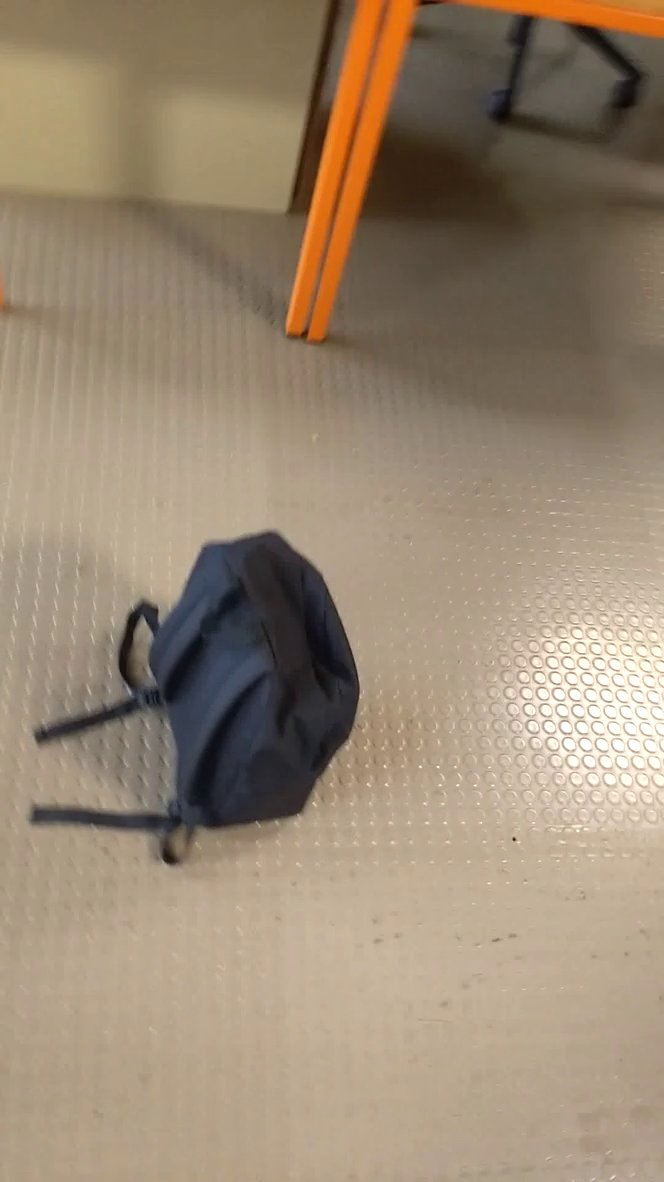bag: (15, 513, 378, 879)
